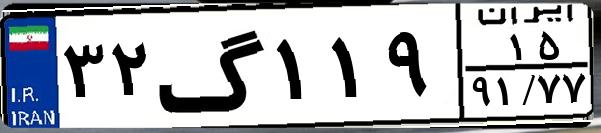1: (270, 28, 330, 110), (330, 28, 385, 110), (508, 27, 537, 80), (495, 70, 520, 125)
2: (110, 28, 156, 98)
3: (57, 26, 110, 100)
5: (537, 27, 568, 80)
7: (560, 70, 590, 125), (535, 70, 560, 125)
9: (385, 28, 445, 110), (470, 70, 495, 125)
گ: (156, 12, 270, 120)
